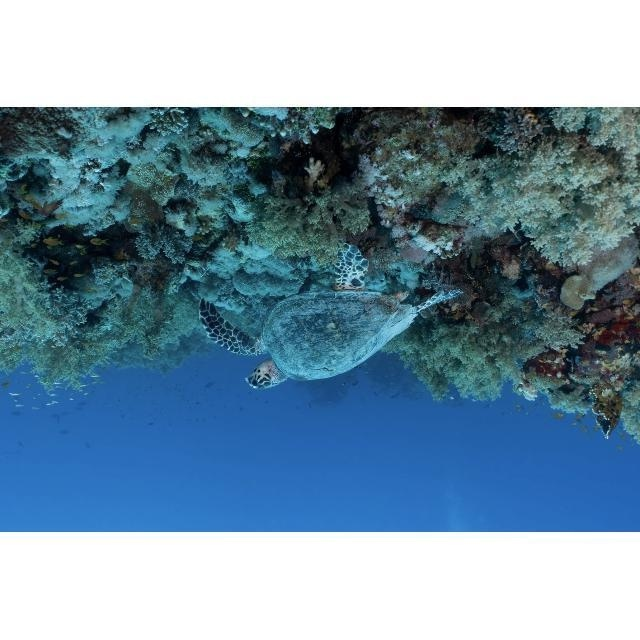turtle: (197, 242, 463, 391)
